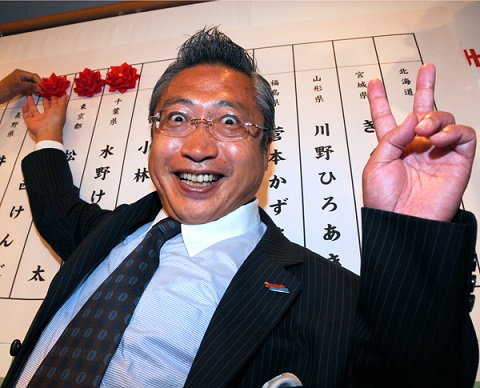face: (150, 65, 271, 223)
hand: (361, 61, 477, 219), (20, 93, 68, 138), (1, 68, 43, 98)
